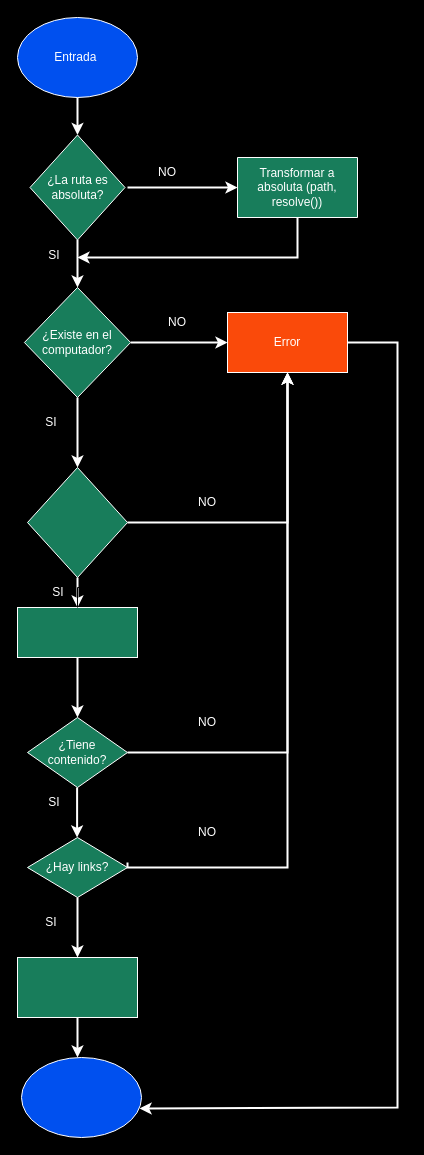
This 424x1155 diagram has some shape labels left out. Each missing label, with the centre of its shape:
Extraer los links ( [ ] ): the point at 77,987
FIN: the point at 81,1097
Leer el archivo (readFile): the point at 77,632
¿El achivo es markdown?: the point at 77,522
